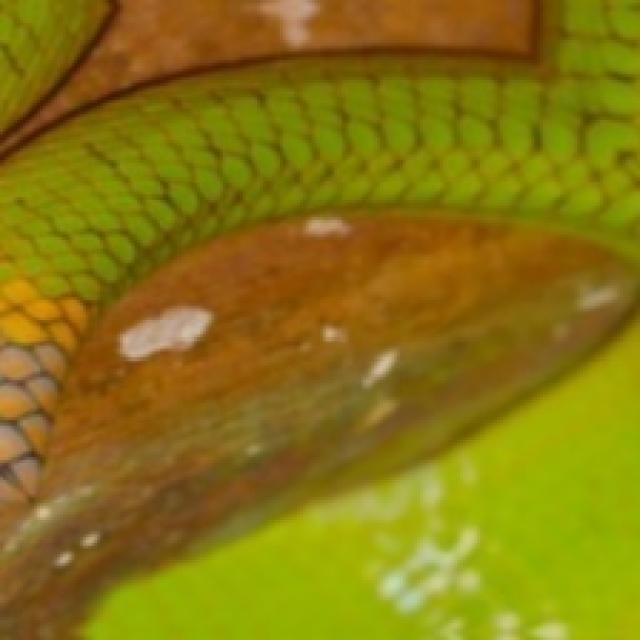red-tailed green ratsnake: (1, 0, 640, 534), (88, 314, 640, 640), (0, 0, 107, 133)
